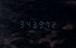four: (23, 19, 28, 27)
nine: (36, 19, 41, 28)
seven: (42, 20, 47, 28)
three: (17, 19, 22, 27), (30, 19, 35, 27)
two: (48, 20, 53, 28)
